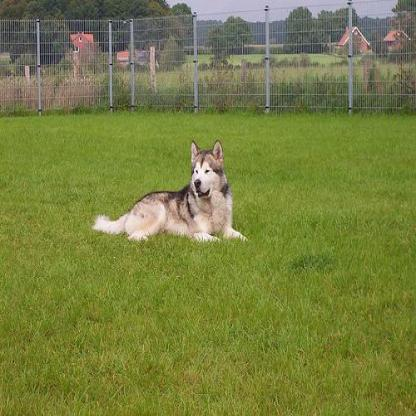malamute: (90, 136, 245, 238)
